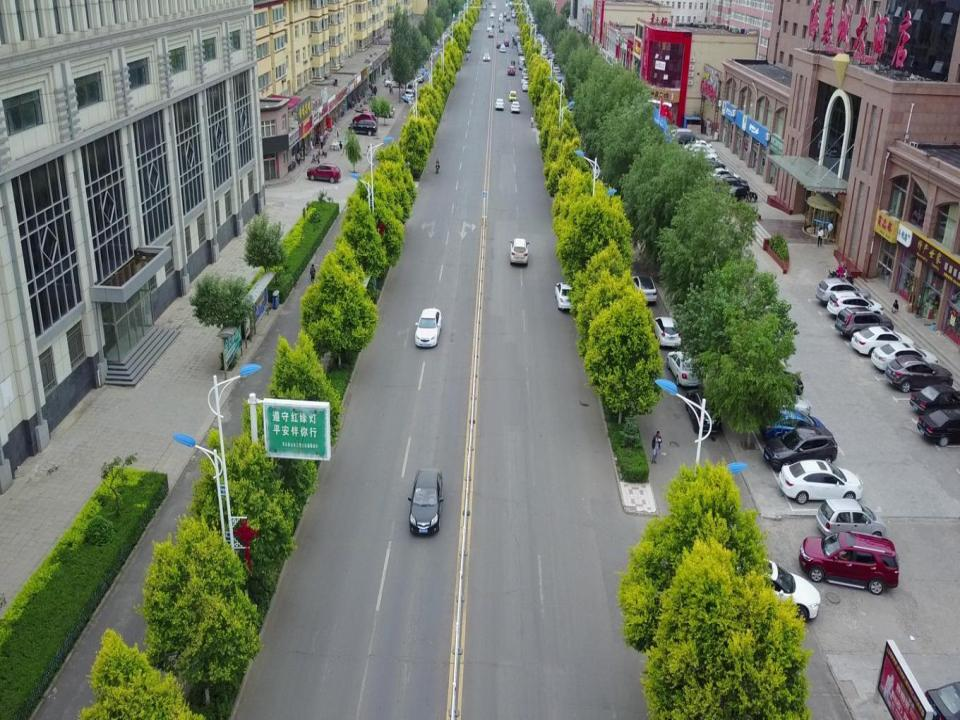car: (797, 532, 901, 594), (723, 558, 820, 620), (778, 459, 864, 503), (763, 427, 839, 469), (816, 498, 885, 536), (884, 356, 954, 392), (408, 466, 443, 534), (759, 410, 826, 442), (870, 342, 941, 370), (870, 342, 940, 369), (851, 328, 918, 356), (834, 309, 894, 338), (909, 382, 960, 416), (684, 390, 724, 433), (916, 409, 960, 446), (745, 369, 804, 394), (750, 393, 811, 417), (827, 292, 883, 318), (666, 348, 704, 386), (922, 681, 960, 719), (413, 308, 443, 346), (815, 280, 861, 304), (677, 137, 714, 164), (650, 316, 682, 347), (720, 186, 760, 210), (690, 159, 730, 183), (674, 144, 714, 168), (707, 175, 746, 199), (704, 168, 744, 191), (678, 151, 718, 174), (630, 275, 660, 304), (554, 280, 576, 312), (306, 164, 340, 182), (589, 157, 613, 182), (510, 238, 530, 266), (348, 119, 376, 136), (580, 131, 600, 153), (566, 105, 585, 127), (351, 113, 376, 127), (370, 104, 394, 118), (384, 77, 405, 87), (553, 76, 566, 88), (493, 98, 504, 111), (404, 88, 414, 102), (507, 91, 518, 103), (550, 59, 560, 71), (510, 101, 520, 112), (520, 75, 530, 86), (552, 65, 562, 76), (311, 151, 320, 163), (317, 148, 326, 160), (415, 71, 424, 83), (522, 81, 532, 91), (543, 57, 553, 67), (426, 38, 440, 45), (507, 66, 516, 76), (407, 80, 416, 90), (522, 67, 530, 77), (518, 58, 526, 68), (518, 55, 526, 65), (517, 47, 525, 57), (534, 32, 542, 42), (482, 53, 490, 62), (542, 42, 548, 53), (463, 44, 471, 52), (499, 43, 506, 52), (540, 34, 546, 44), (540, 48, 547, 56), (496, 39, 502, 48), (487, 30, 494, 37), (517, 42, 523, 50), (503, 38, 509, 46)
van: (665, 127, 695, 145), (417, 47, 435, 59)
